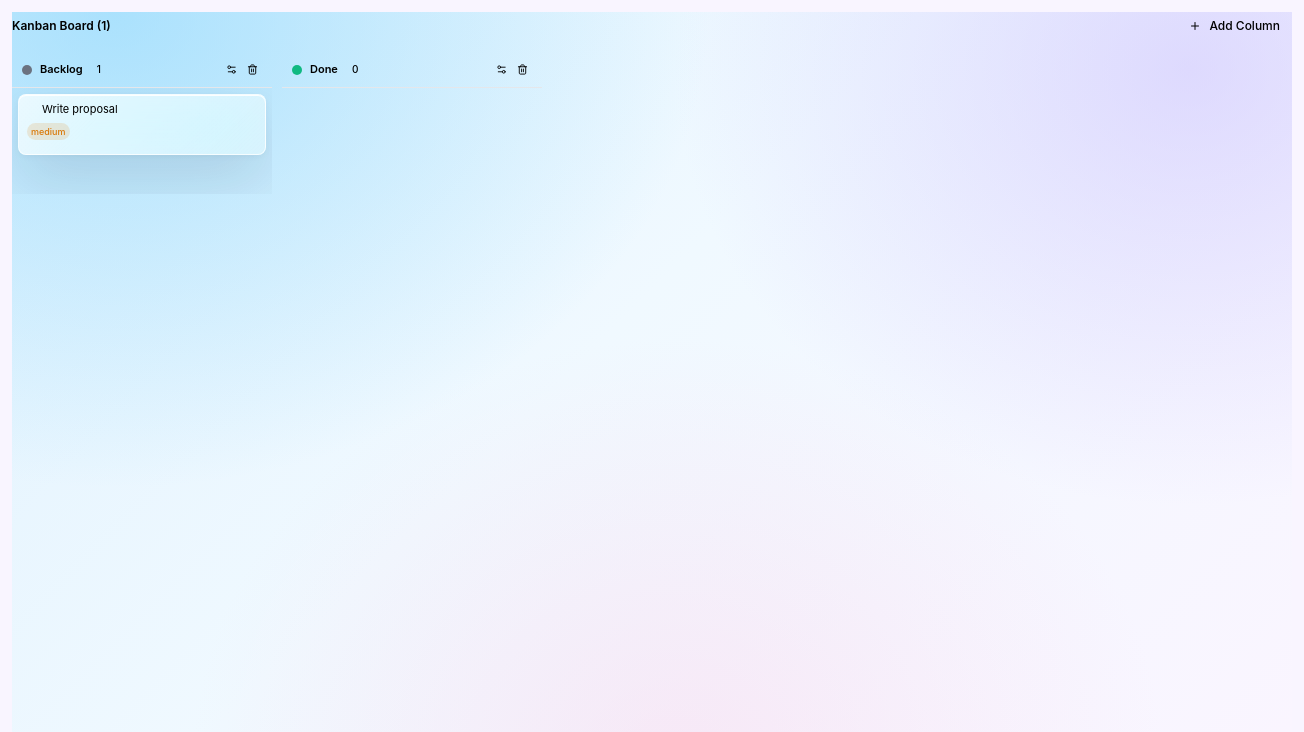
KanbanBoard › creates a named column through the command seam
Click the button "Add Column" at (1235, 26), box x1=1177 y1=12 x2=1292 y2=40
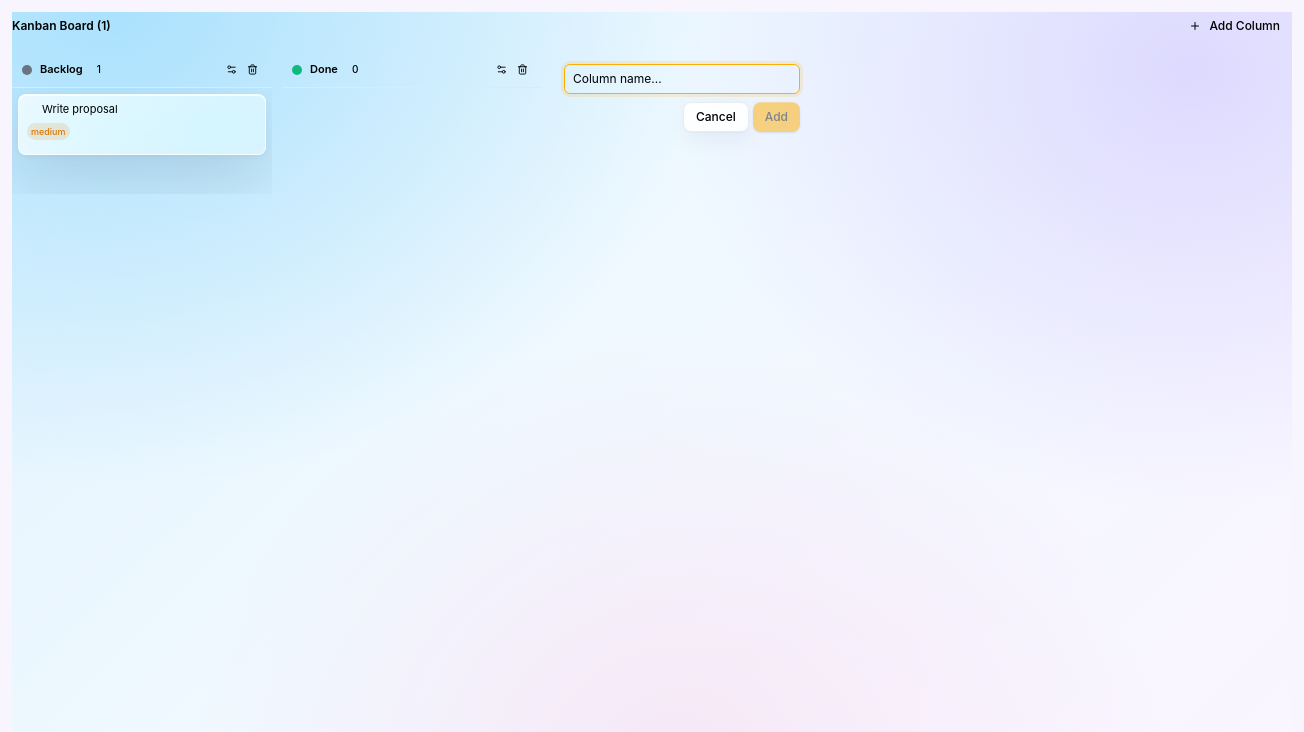
Type "Blocked" into the field with placeholder "Column name..." at (682, 79), box x1=564 y1=64 x2=800 y2=94
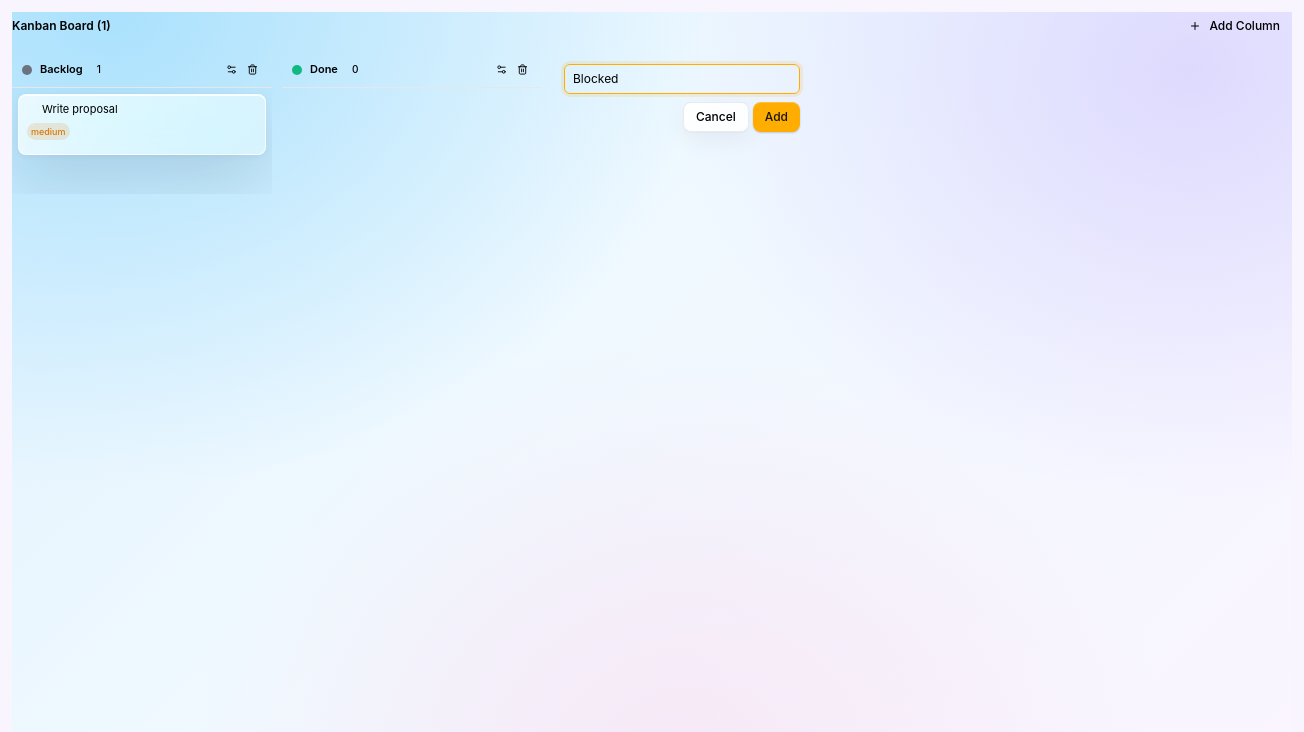
Click the button "Add" at (776, 117), box x1=753 y1=102 x2=800 y2=132
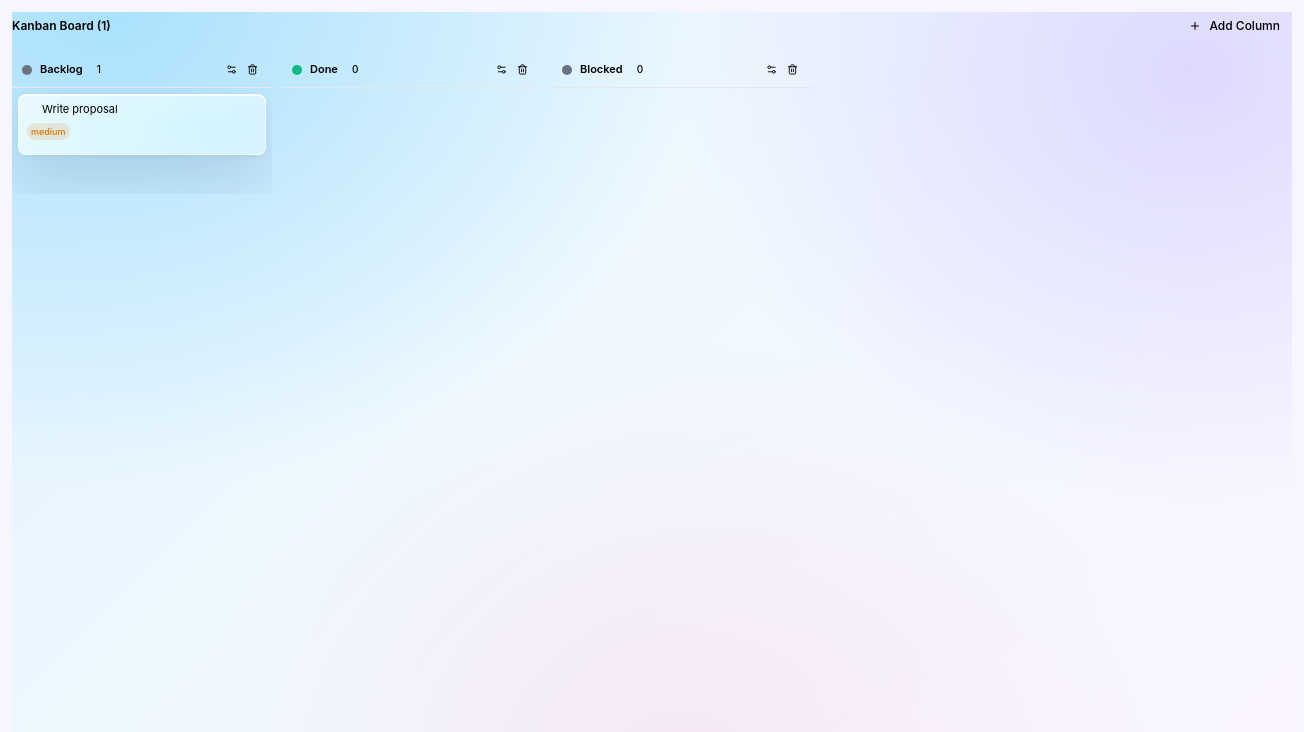
Now the text "Blocked" is shown, box x1=580 y1=61 x2=623 y2=78
